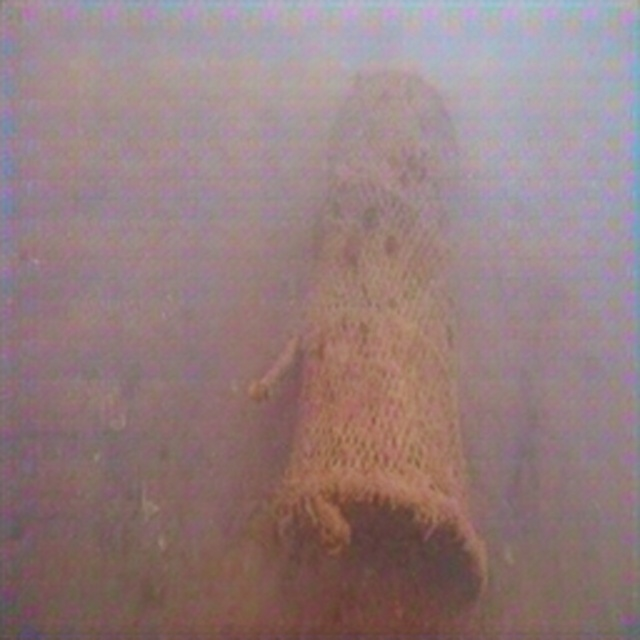mine: (269, 66, 488, 635)
